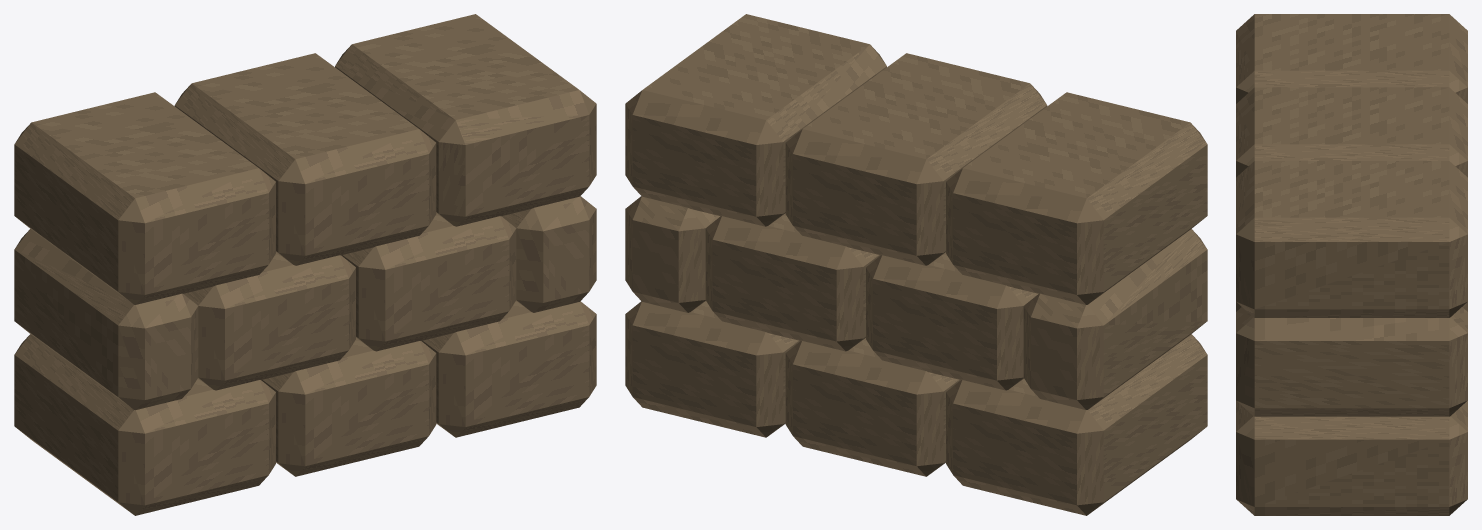
Rendered from f_earthbag_half.glb.
The picture shows the model from 3 angles, left to right: view 1: azimuth 30°, elevation 25°; view 2: azimuth 150°, elevation 25°; view 3: azimuth 270°, elevation 25°; orthographic projection. The views are drawn at different scales.
Parts seen in each view (by area): view 1: block_bag-2--0.33, block_bag-2-0, block_bag-2-0.33, block_bag-0--0.33, block_bag-1--0.41, block_bag-0-0, block_bag-0-0.33, block_bag-1-0.165, block_bag-1--0.165, block_bag-1-0.41; view 2: block_bag-2--0.33, block_bag-2-0, block_bag-2-0.33, block_bag-0--0.33, block_bag-1--0.41, block_bag-0-0, block_bag-0-0.33, block_bag-1-0.165, block_bag-1--0.165, block_bag-1-0.41; view 3: block_bag-2-0.33, block_bag-0-0.33, block_bag-1-0.41, block_bag-2--0.33, block_bag-2-0.
Part boxes in pixels (x1,y1,x2,y2): block_bag-2--0.33: (14, 92, 275, 304); block_bag-2-0: (174, 53, 436, 265); block_bag-2-0.33: (335, 14, 596, 226); block_bag-0--0.33: (14, 334, 275, 515); block_bag-1--0.41: (14, 229, 198, 409); block_bag-0-0: (261, 338, 436, 476); block_bag-0-0.33: (421, 301, 596, 437); block_bag-1-0.165: (341, 213, 516, 351); block_bag-1--0.165: (183, 252, 355, 390); block_bag-1-0.41: (501, 196, 596, 312); block_bag-2--0.33: (946, 92, 1207, 304); block_bag-2-0: (785, 53, 1047, 265); block_bag-2-0.33: (625, 14, 886, 226); block_bag-0--0.33: (946, 334, 1207, 515); block_bag-1--0.41: (1023, 229, 1207, 409); block_bag-0-0: (785, 338, 960, 476); block_bag-0-0.33: (625, 301, 800, 437); block_bag-1-0.165: (705, 213, 880, 351); block_bag-1--0.165: (866, 252, 1038, 390); block_bag-1-0.41: (625, 196, 720, 312); block_bag-2-0.33: (1236, 161, 1467, 317); block_bag-0-0.33: (1236, 400, 1467, 515); block_bag-1-0.41: (1236, 307, 1467, 416); block_bag-2--0.33: (1236, 14, 1467, 103); block_bag-2-0: (1236, 87, 1467, 177).
Size of the model in its own units: 0.985 by 0.625 by 0.44.
1 material, 1 textured.
